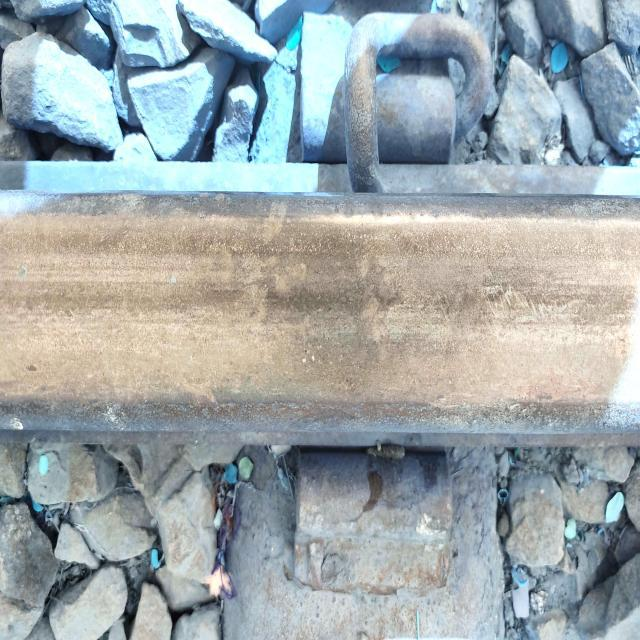Good Fasteners: (290, 4, 499, 203)
Missing Fastener: (268, 435, 493, 635)
